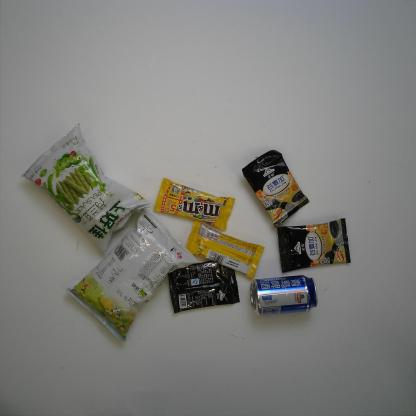Alcohol: (249, 272, 319, 320)
Chocolate: (182, 218, 265, 280), (150, 176, 238, 232)
Instant Drink: (240, 146, 311, 230), (166, 254, 242, 315), (274, 215, 352, 271)
Puffed Food: (61, 204, 200, 342), (18, 118, 153, 256)
